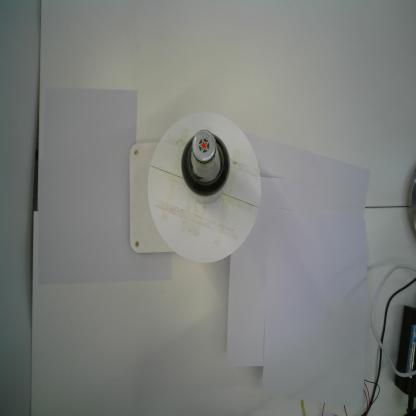Alcohol: (179, 127, 231, 207)
